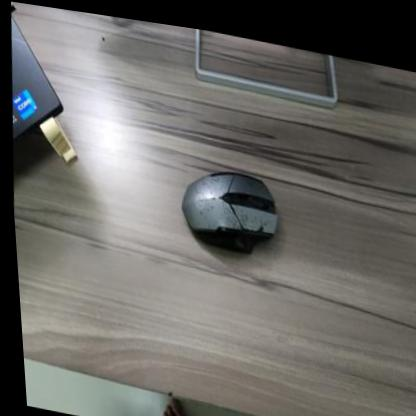mouserotation: (172, 153, 280, 253)
